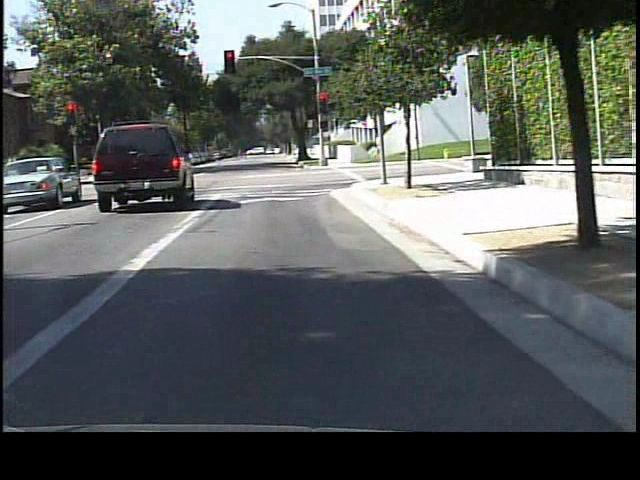person: (369, 133, 387, 166)
